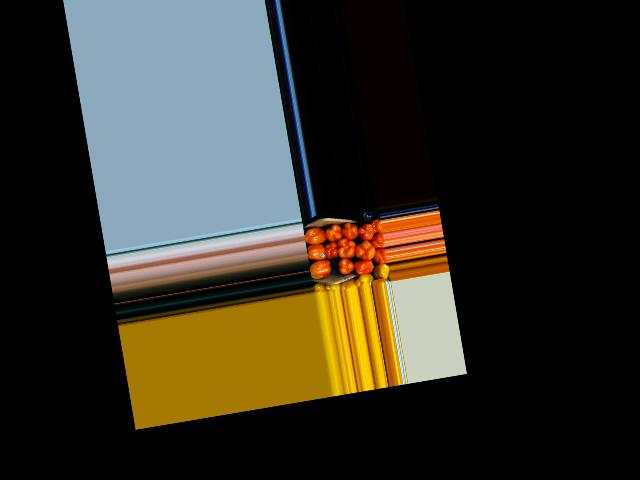bell_pepper: (352, 273, 375, 286)
